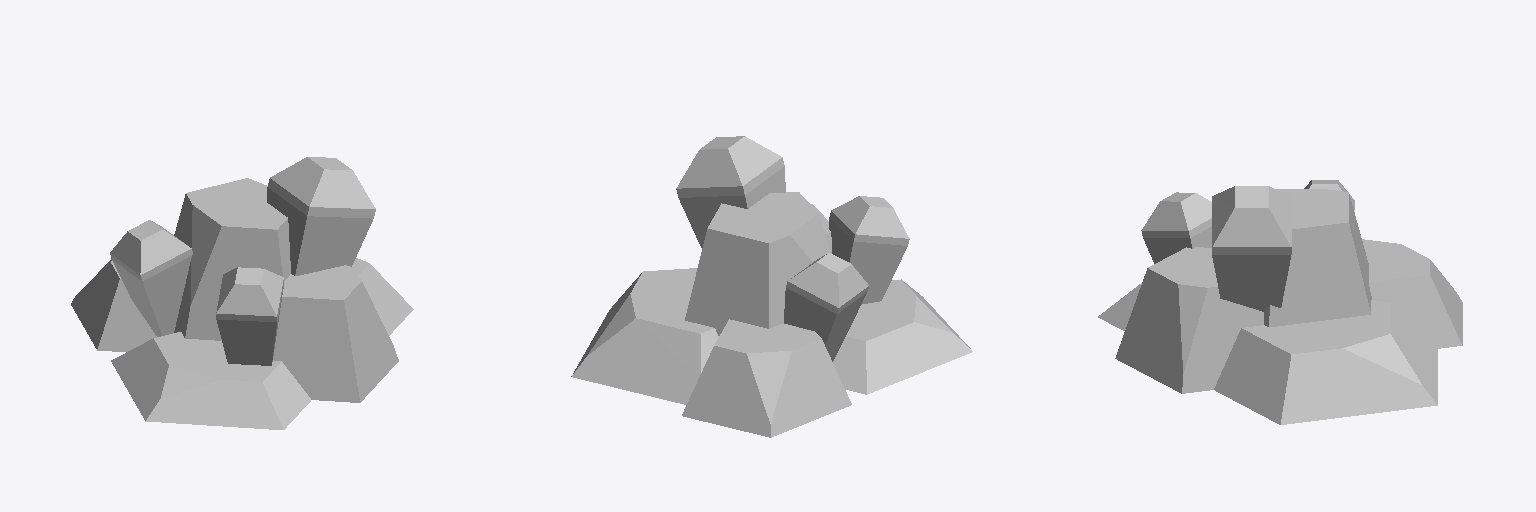
The model's file is sakura_tile_crystal.obj.
3 renders of one model, left to right at view 1: azimuth 30°, elevation 25°; view 2: azimuth 150°, elevation 25°; view 3: azimuth 270°, elevation 25°, orthographic.
Visible parts, largest first — view 1: rocks, crystal; view 2: rocks, crystal; view 3: rocks, crystal.
Boxes of the visible parts, <box> form: rocks: <box>71,178,413,429</box>; crystal: <box>110,157,375,365</box>; rocks: <box>571,192,972,437</box>; crystal: <box>676,136,909,361</box>; rocks: <box>1098,189,1462,424</box>; crystal: <box>1141,180,1354,311</box>.
Size of the model in its own units: 1 by 0.5565 by 1.